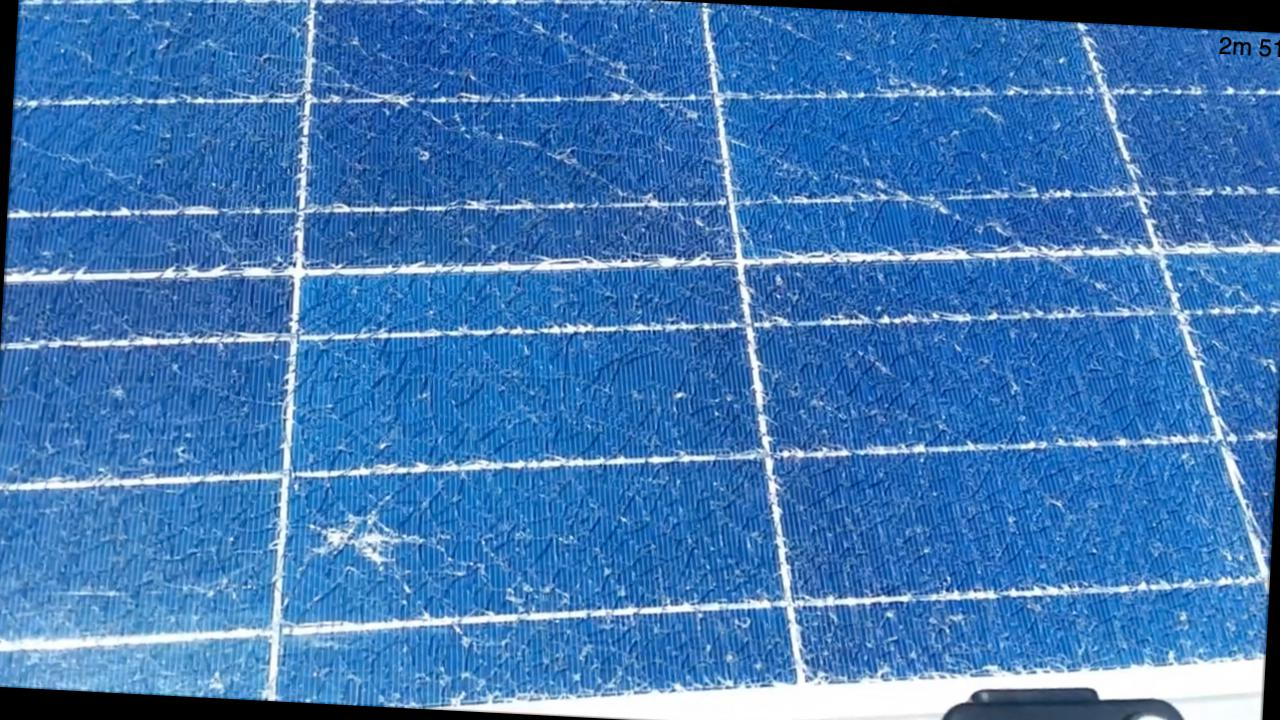Crack: (298, 492, 451, 598)
